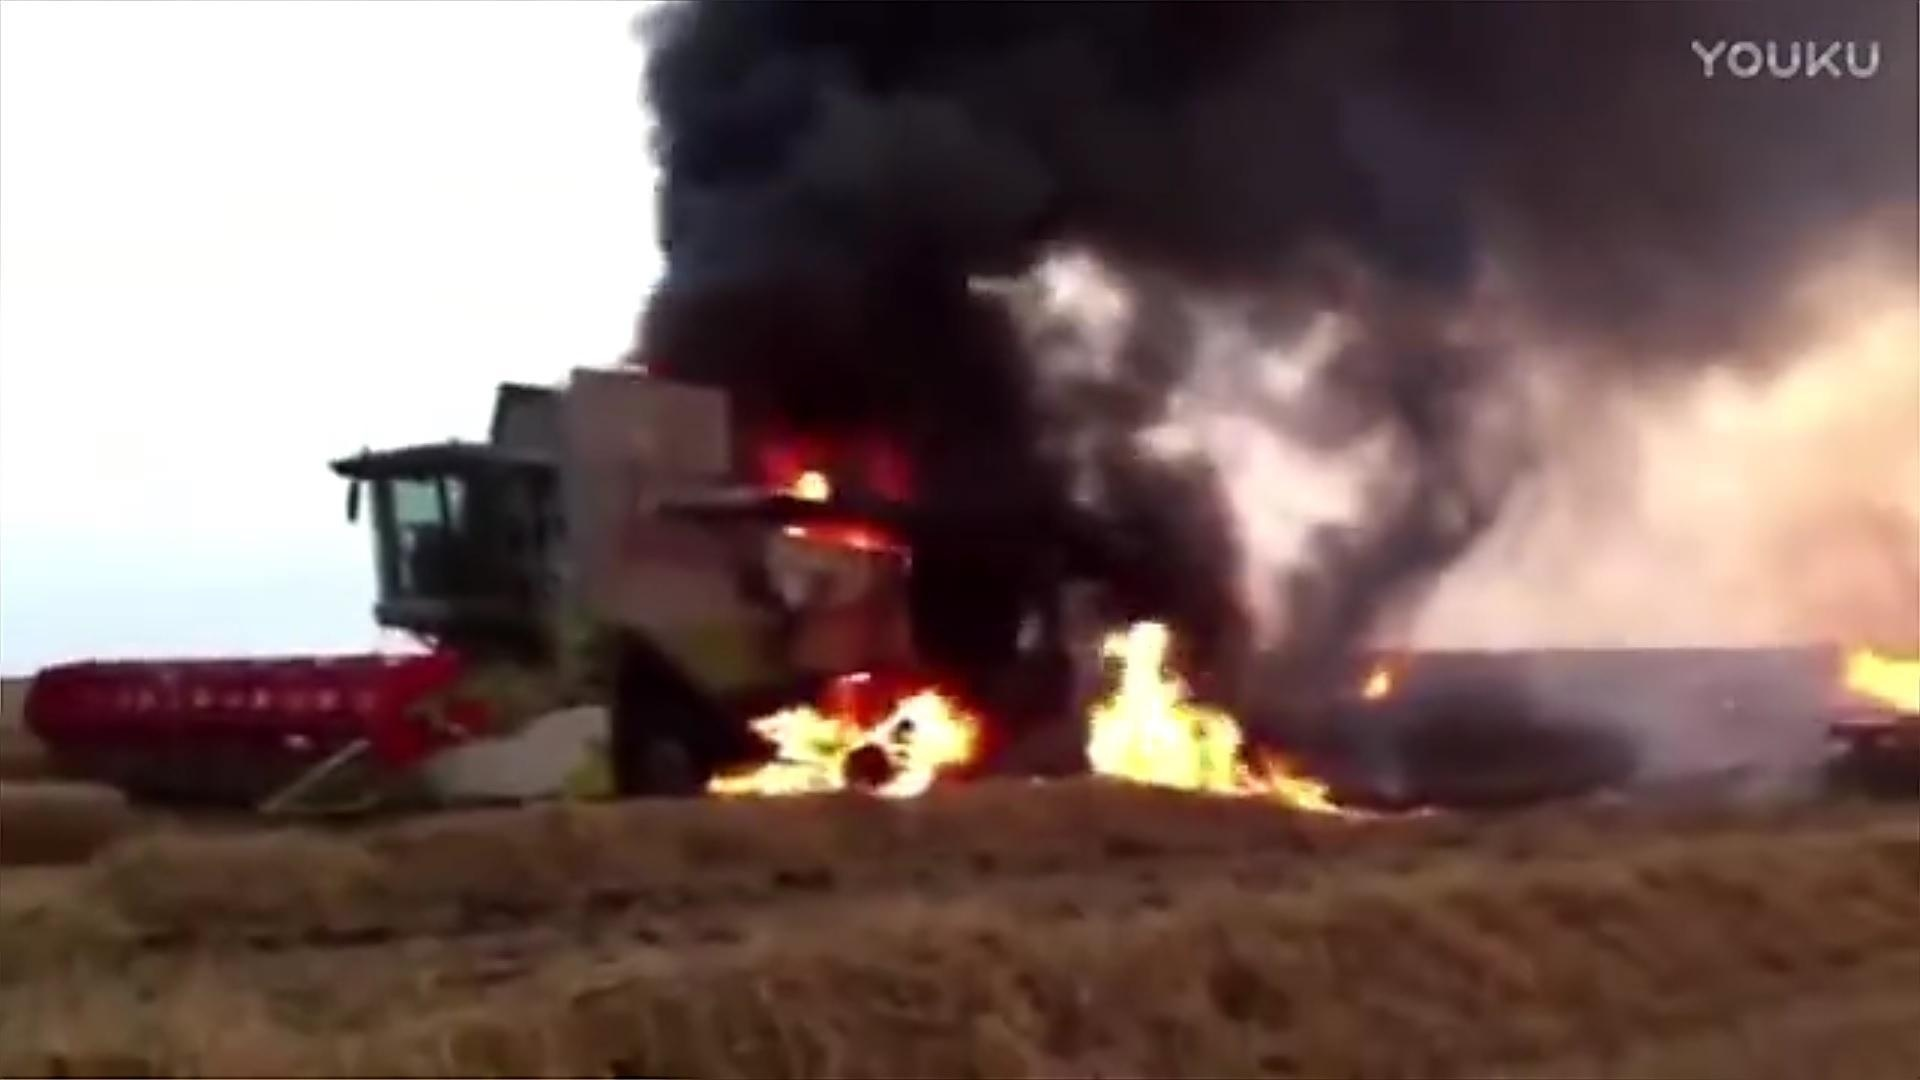fire: (1077, 624, 1344, 814), (702, 665, 984, 800)
